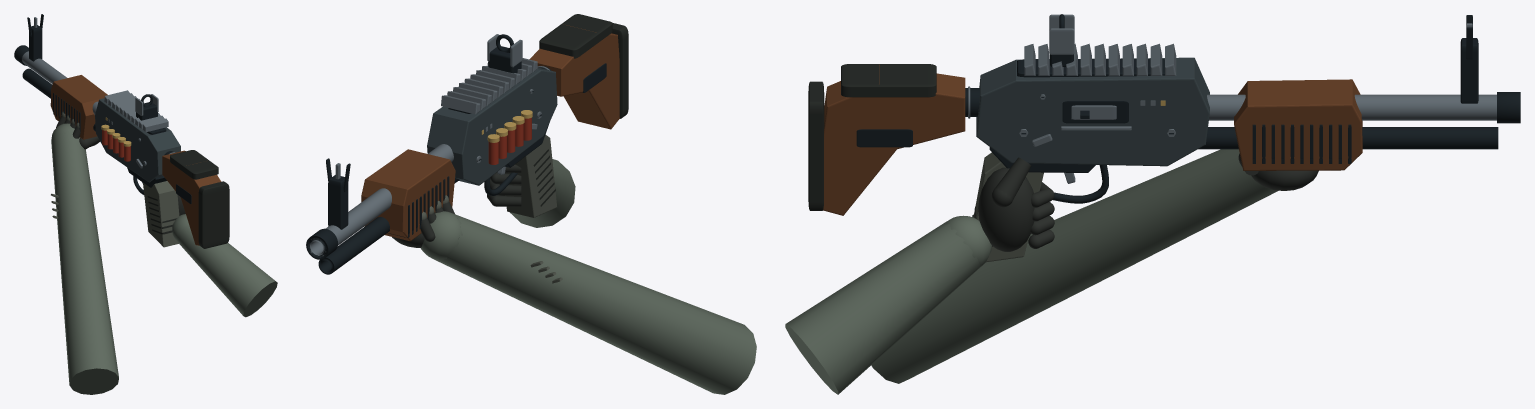
Rendered from weapon-1.glb.
3 renders of one model, left to right at view 1: azimuth 30°, elevation 25°; view 2: azimuth 150°, elevation 25°; view 3: azimuth 270°, elevation 25°, orthographic. The views are drawn at different scales.
Visible parts, largest first — view 1: support_hand, ABSOLUTION_MK2, stock, firing_hand, pump; view 2: support_hand, ABSOLUTION_MK2, stock, pump, firing_hand; view 3: ABSOLUTION_MK2, support_hand, firing_hand, stock, pump, bolt.
Part boxes in pixels (x1,y1,x2,y2): support_hand: [51, 111, 118, 394]; ABSOLUTION_MK2: [14, 14, 180, 247]; stock: [162, 150, 229, 248]; firing_hand: [172, 195, 277, 317]; pump: [50, 75, 107, 139]; support_hand: [392, 195, 756, 394]; ABSOLUTION_MK2: [306, 34, 557, 274]; stock: [529, 14, 628, 129]; pump: [361, 149, 455, 241]; firing_hand: [487, 159, 575, 227]; ABSOLUTION_MK2: [972, 14, 1520, 262]; support_hand: [871, 149, 1318, 383]; firing_hand: [785, 157, 1054, 394]; stock: [808, 64, 979, 215]; pump: [1234, 79, 1362, 170]; bolt: [1071, 105, 1116, 119].
Bounding box in the file's own units: 0.7012 × 0.8849 × 1.31.
